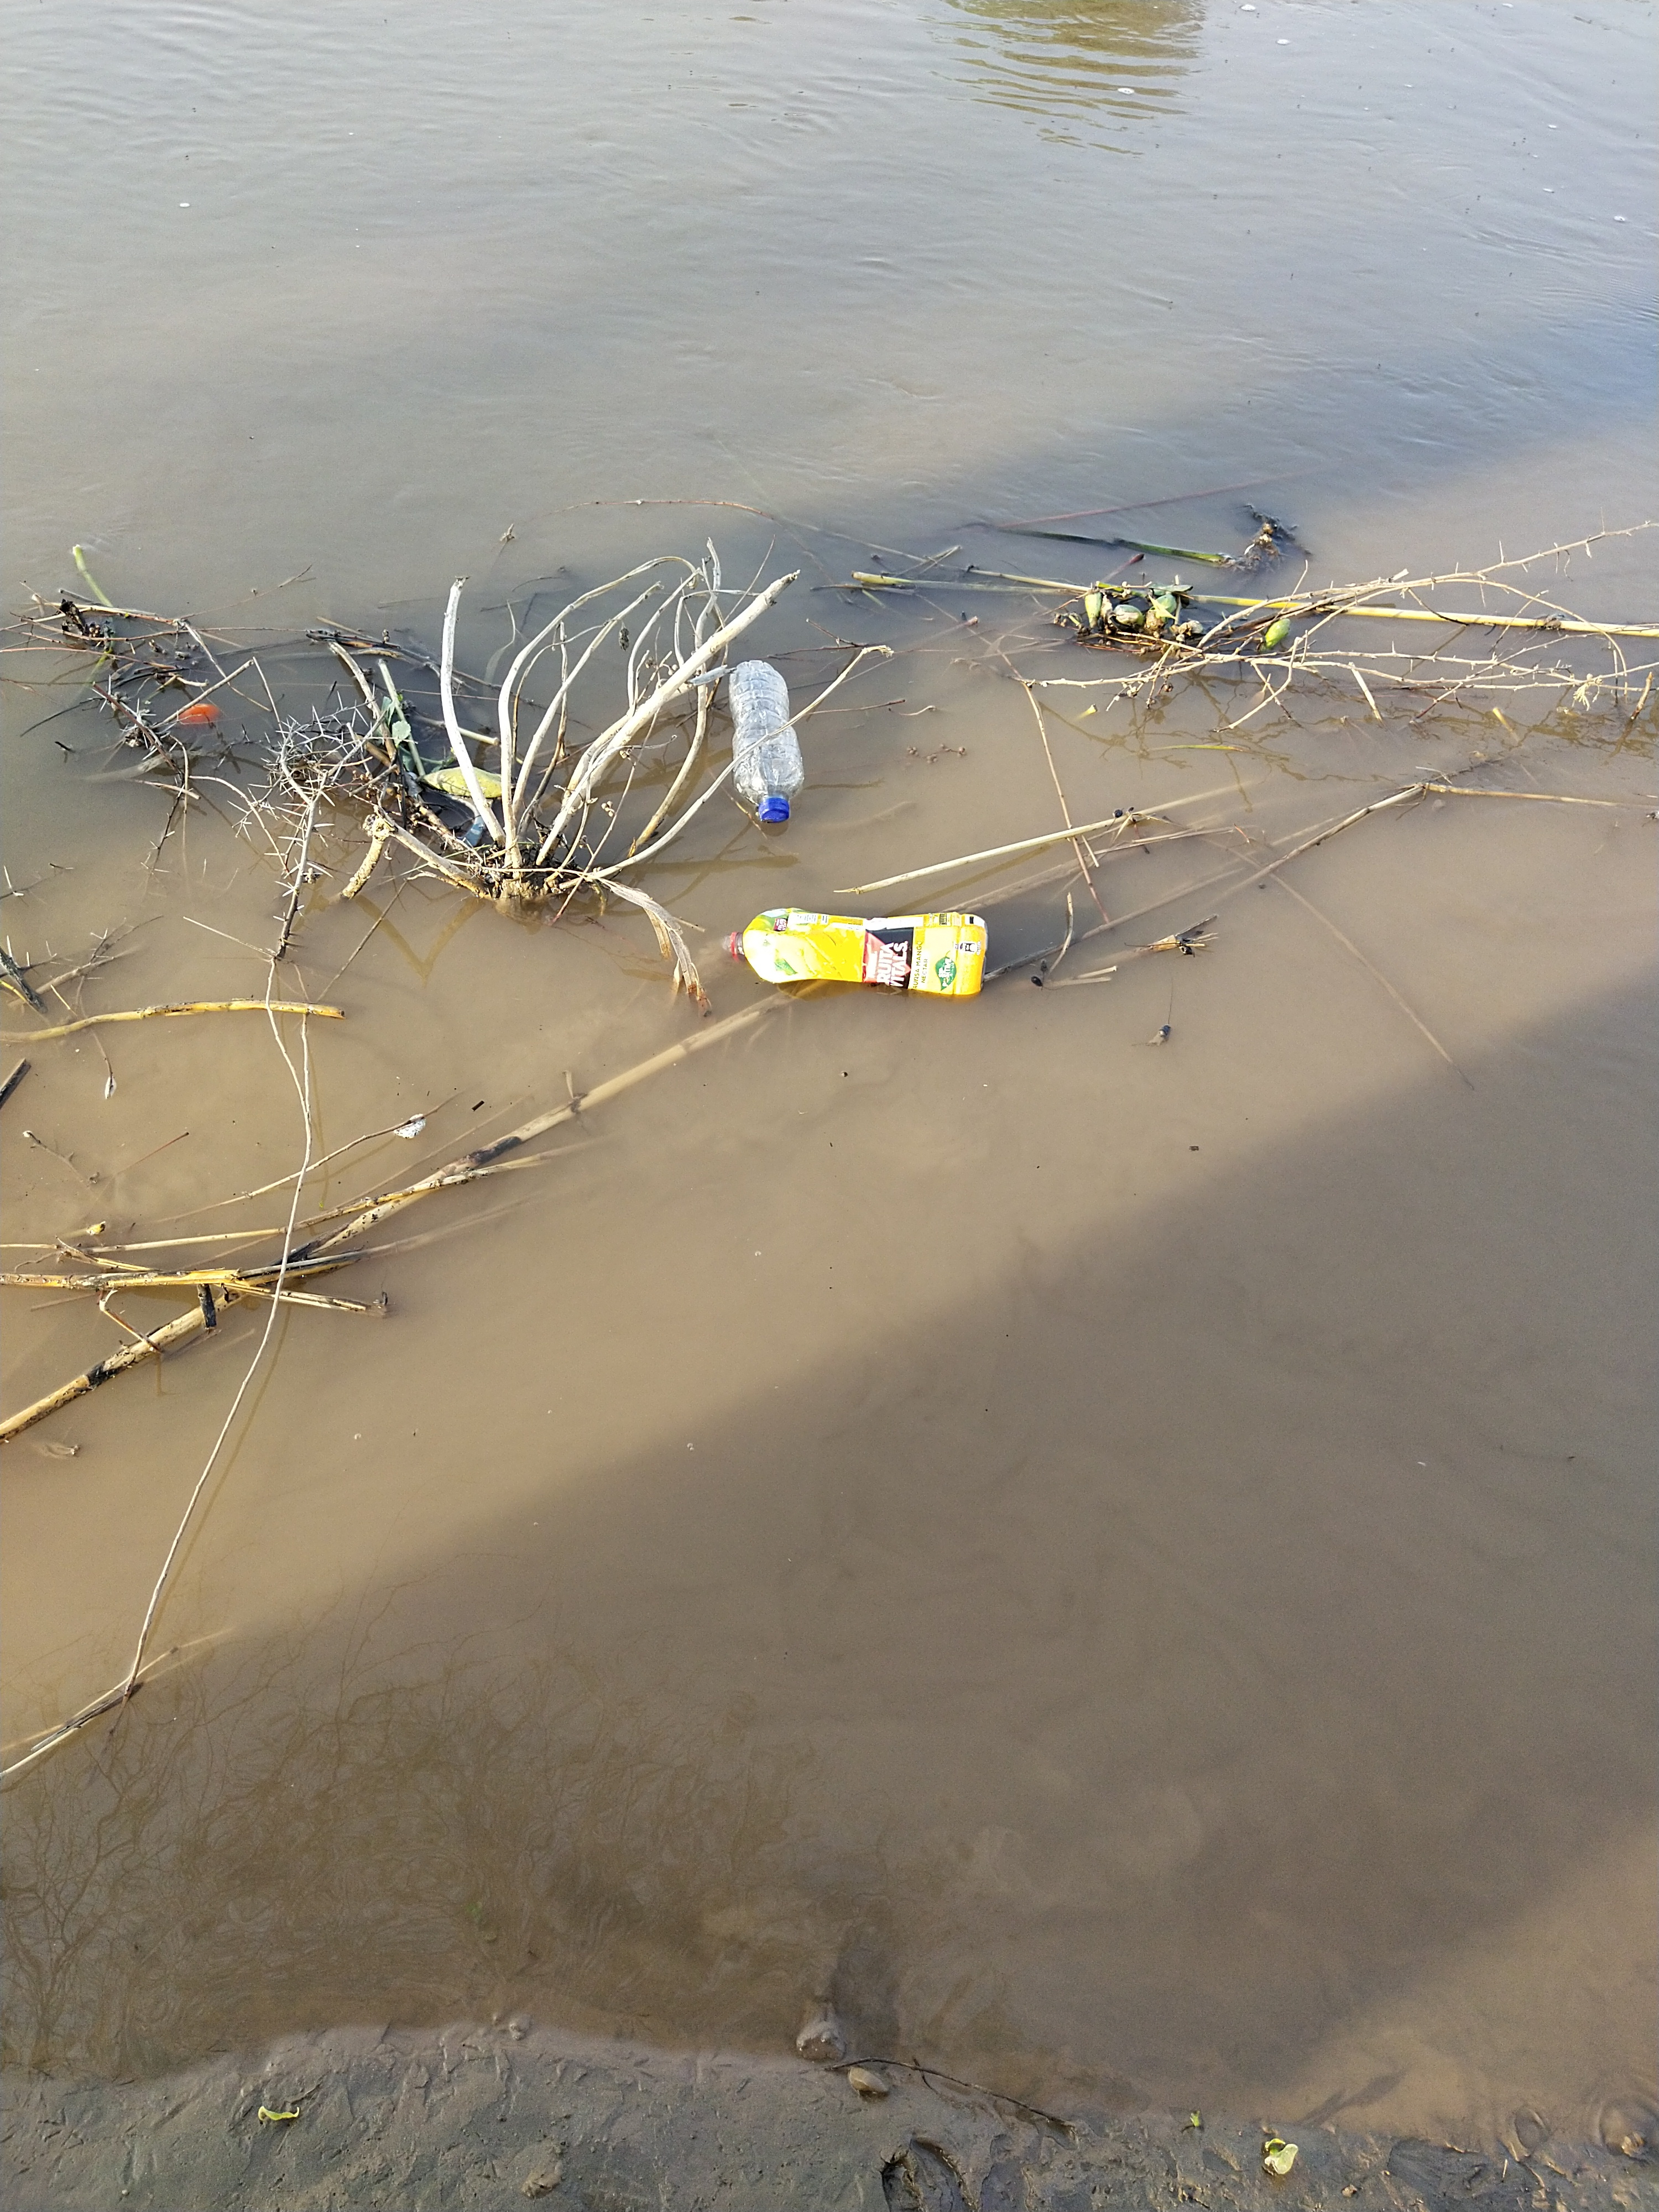Plastic Bottle: (728, 907, 988, 996), (728, 658, 805, 822)
